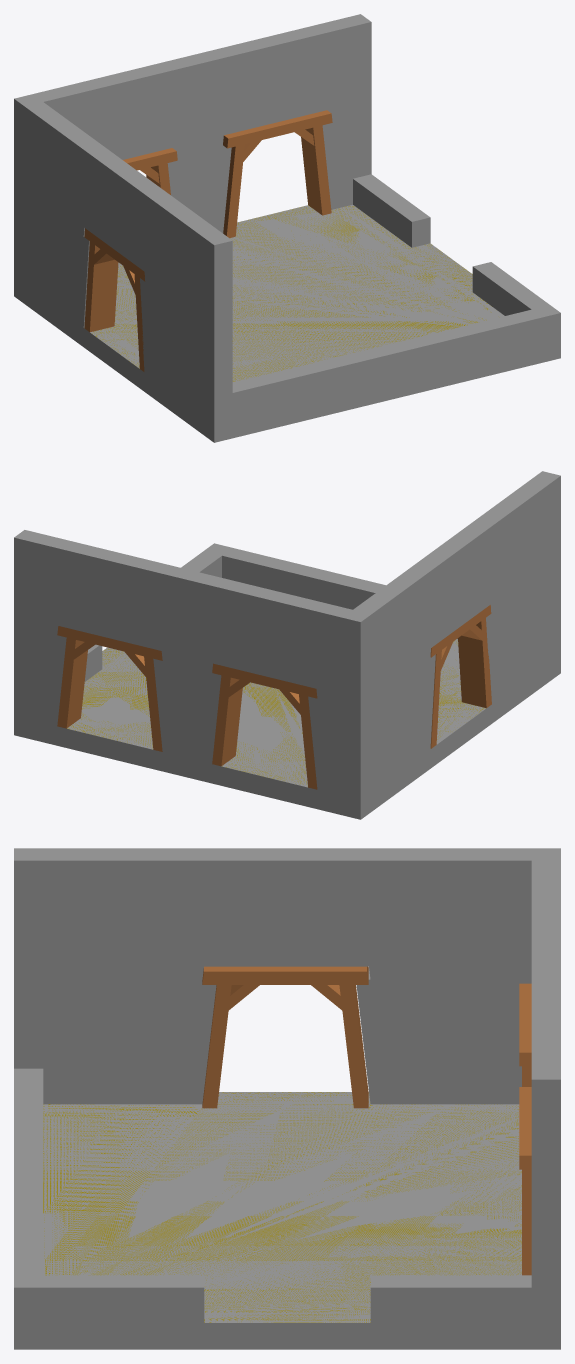
File: salaPequeñaTresPuertas.fbx
The picture shows the model from 3 angles, top to bottom: view 1: azimuth 30°, elevation 25°; view 2: azimuth 150°, elevation 25°; view 3: azimuth 270°, elevation 25°; orthographic projection. The views are drawn at different scales.
Visible parts, largest first — view 1: group_0.001, group_4, group_2, group_1, group_3; view 2: group_0.001, group_4, group_2, group_3, group_1; view 3: group_0.002, group_4, group_0.001, group_1, group_2, group_3.
Part boxes in pixels (bbox=[...]): group_0.001: bbox=[14, 14, 560, 442]; group_4: bbox=[90, 204, 504, 382]; group_2: bbox=[223, 110, 332, 238]; group_1: bbox=[84, 228, 145, 371]; group_3: bbox=[123, 148, 177, 194]; group_0.001: bbox=[14, 471, 560, 819]; group_4: bbox=[67, 639, 485, 787]; group_2: bbox=[57, 626, 162, 751]; group_3: bbox=[212, 663, 317, 789]; group_1: bbox=[430, 605, 491, 748]; group_0.002: bbox=[14, 860, 531, 1104]; group_4: bbox=[43, 1092, 521, 1322]; group_0.001: bbox=[14, 848, 560, 1349]; group_1: bbox=[202, 966, 368, 1108]; group_2: bbox=[519, 1087, 531, 1275]; group_3: bbox=[519, 983, 531, 1086].
Bounding box in the file's own units: 1120 × 610 × 1120.
